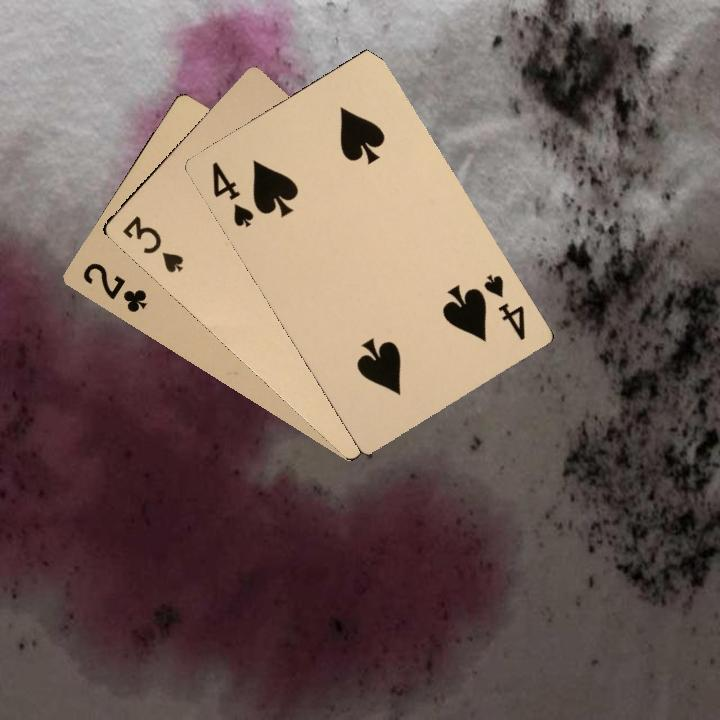2c: (78, 258, 150, 315)
3s: (118, 211, 186, 276)
4s: (207, 157, 257, 230), (479, 269, 528, 343)
